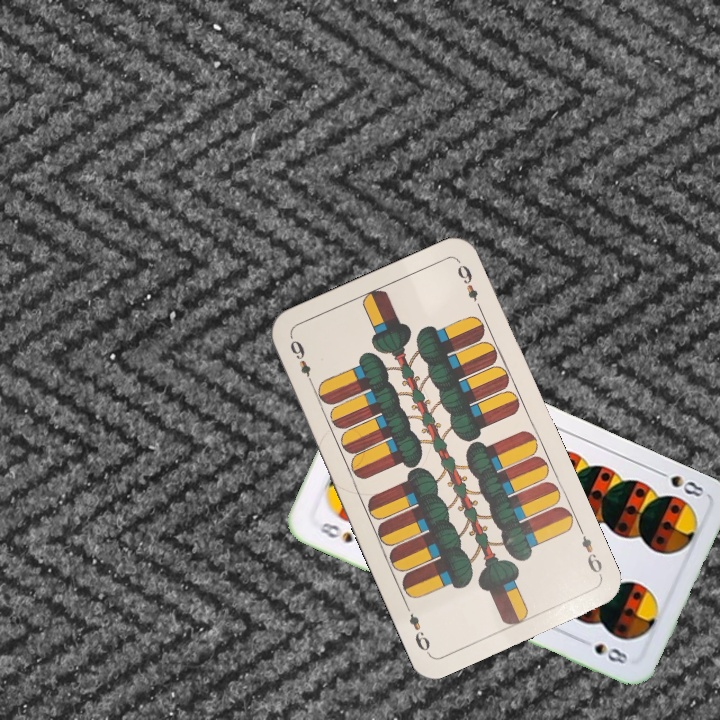E9: (285, 333, 317, 389), (574, 523, 605, 579)
S8: (652, 466, 709, 500), (315, 518, 356, 546)
